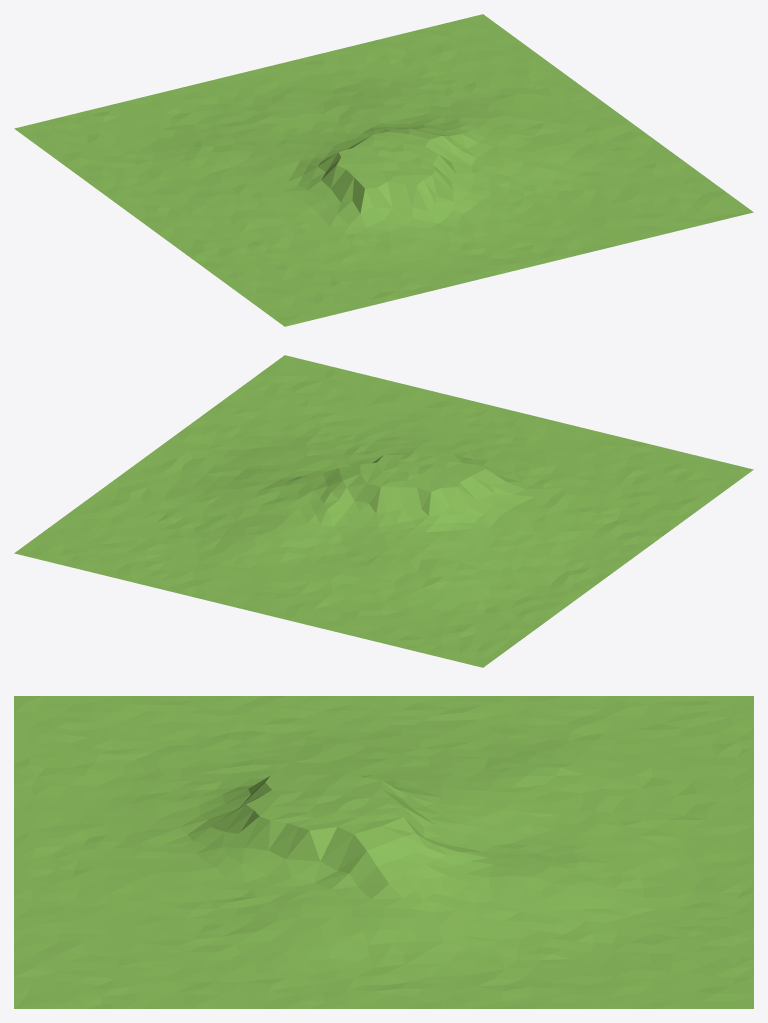
File: MT_Terrain_L_d_14_LOD.fbx
The picture shows the model from 3 angles, top to bottom: view 1: azimuth 30°, elevation 25°; view 2: azimuth 150°, elevation 25°; view 3: azimuth 270°, elevation 25°; orthographic projection. The views are drawn at different scales.
Parts seen in each view (by area): view 1: MT_Terrain_L_d_14_LOD0; view 2: MT_Terrain_L_d_14_LOD0; view 3: MT_Terrain_L_d_14_LOD0.
Part boxes in pixels (box(x1,y1,x2,y2)): MT_Terrain_L_d_14_LOD0: box(14, 14, 753, 326); MT_Terrain_L_d_14_LOD0: box(14, 355, 753, 667); MT_Terrain_L_d_14_LOD0: box(14, 696, 753, 1008).
Size of what is drawn, in the model's own units: 10000 by 659 by 10000.
